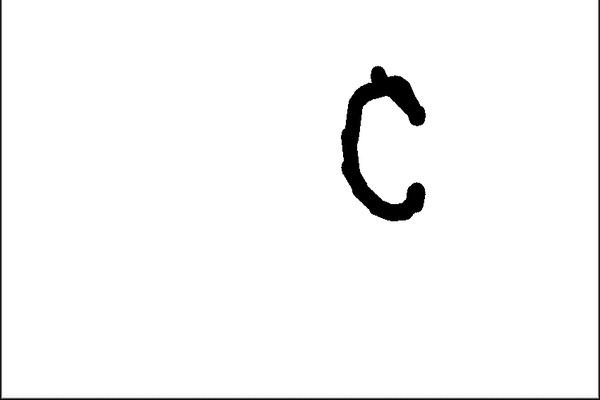C: (334, 63, 434, 222)
